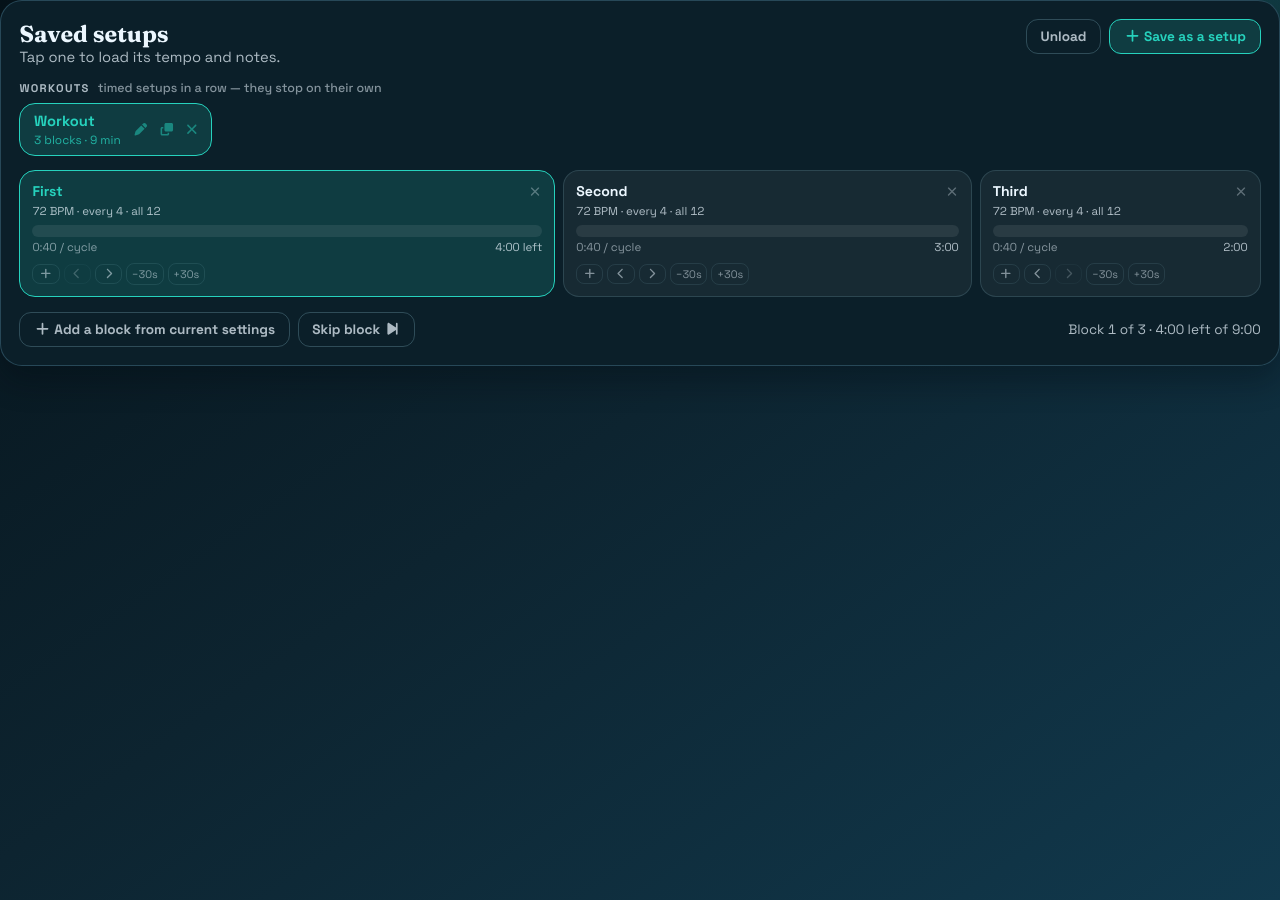
renaming a chip › opens the shared form, prefilled with the chip name
The width and height of the screenshot is (1280, 900).
Step 1. Click the button named "Rename Workout" → (140, 130), box [127,104,152,155]
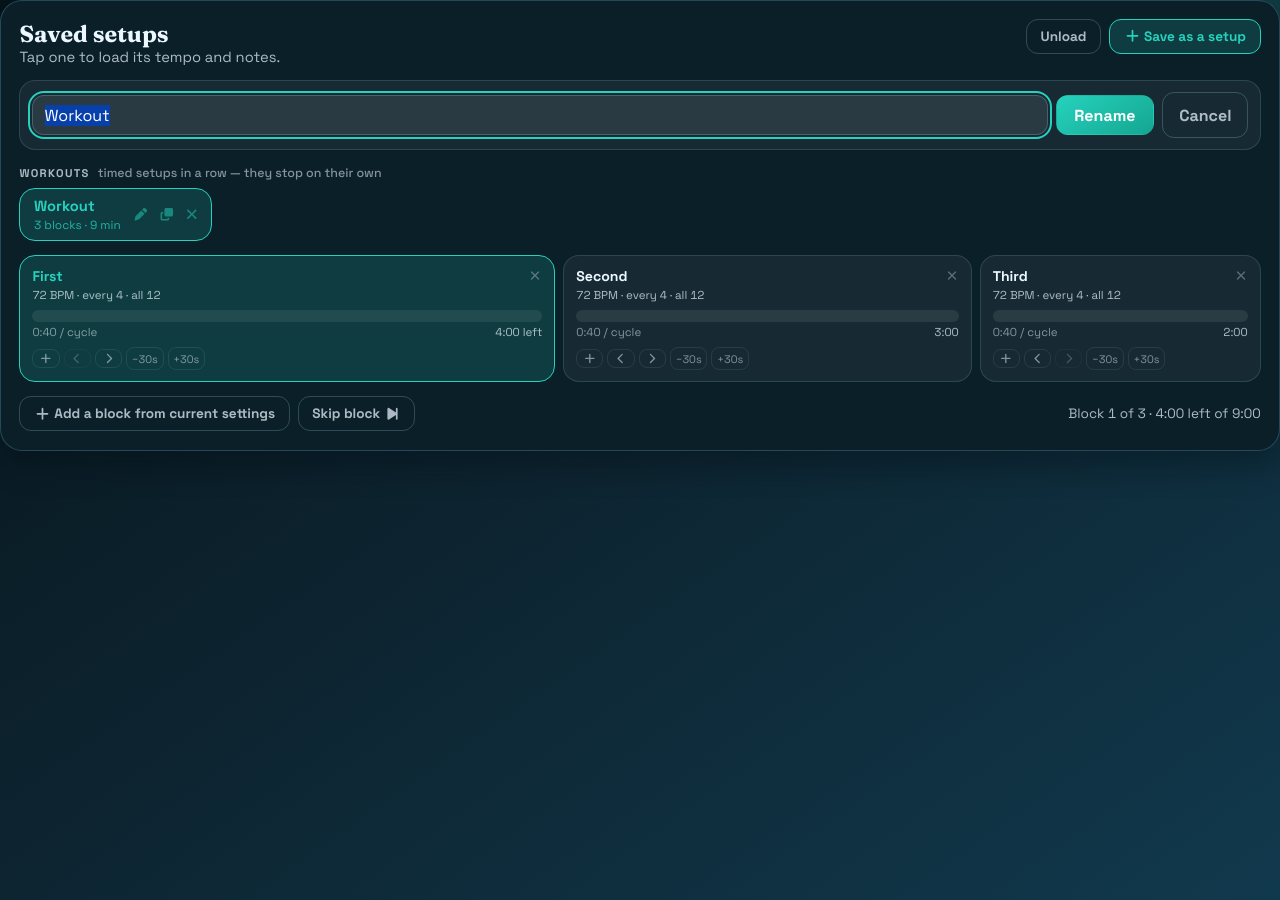
Result: the form with test id "routine-save-form" is shown at [19,80,1261,150]
Result: the field with test id "routine-name-input" holds "Workout" at [32,95,1048,136]
Result: the button with test id "routine-save-confirm" reads "Rename" at [1056,95,1154,136]
